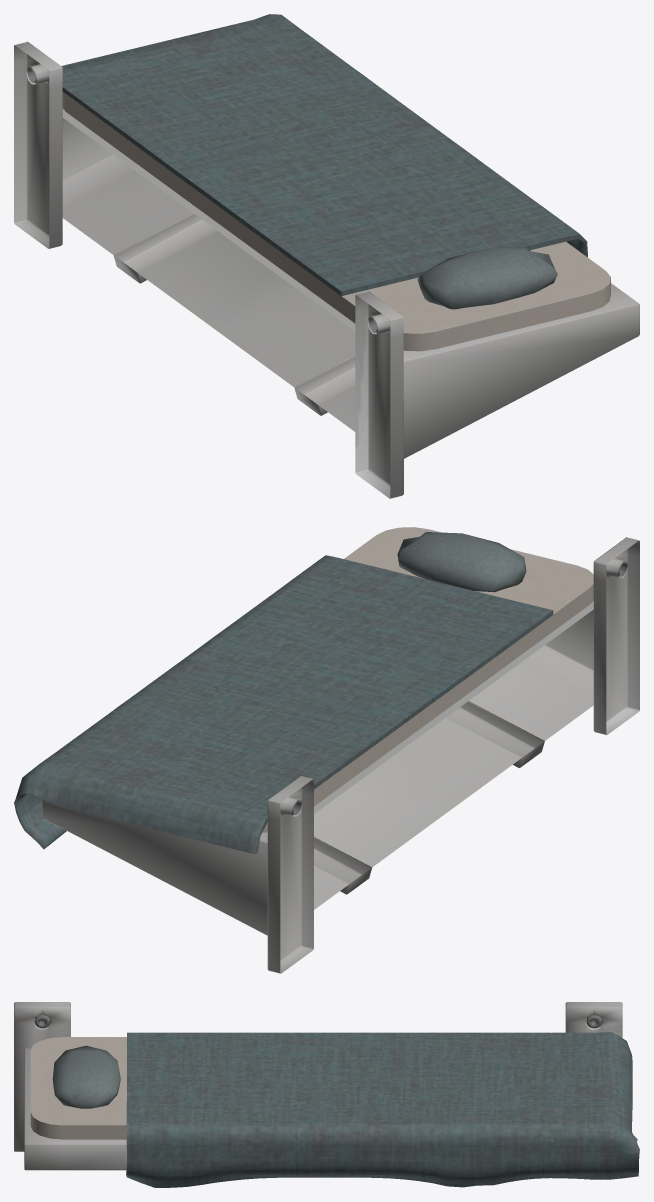
The model's file is Dungeon-Cell-Bed.fbx.
The picture shows the model from 3 angles, top to bottom: view 1: azimuth 30°, elevation 25°; view 2: azimuth 150°, elevation 25°; view 3: azimuth 270°, elevation 25°; orthographic projection. The views are drawn at different scales.
Parts seen in each view (by area): view 1: Dungeon-Cell-Bed; view 2: Dungeon-Cell-Bed; view 3: Dungeon-Cell-Bed.
Part boxes in pixels (box(x1,y1,x2,y2)): Dungeon-Cell-Bed: box(14, 14, 639, 498); Dungeon-Cell-Bed: box(14, 527, 639, 973); Dungeon-Cell-Bed: box(14, 1002, 639, 1187).
Bounding box in the file's own units: 125 × 79.59 × 312.
